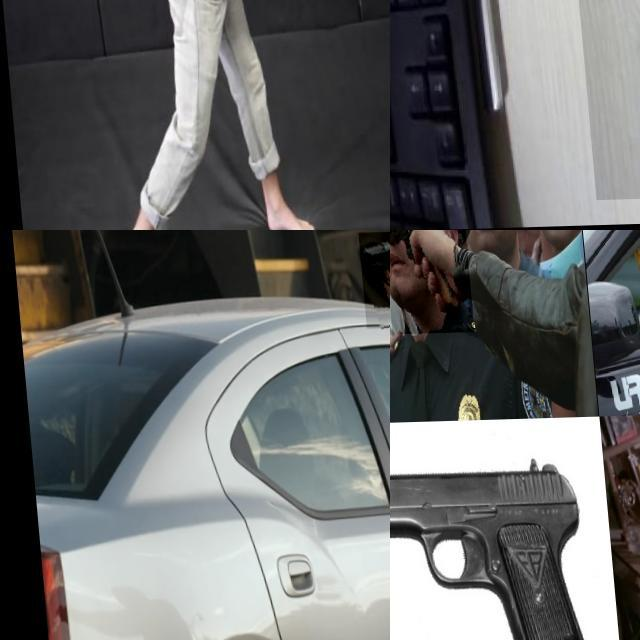-: (544, 0, 640, 230), (348, 0, 390, 28)
gun-knife-thesis - v11 Yolov5 augmented: (390, 458, 589, 640), (390, 230, 470, 335), (354, 233, 390, 330)
